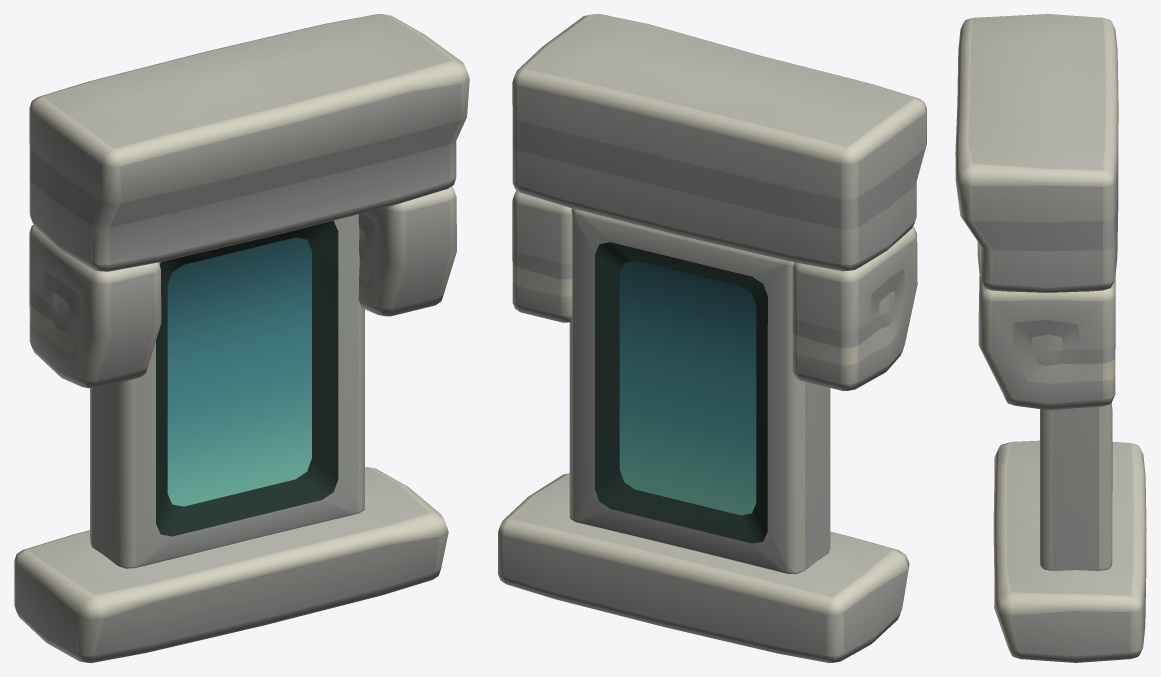
Rendered from window_ornate3_LOD_setup.fbx.
The picture shows the model from 3 angles, left to right: view 1: azimuth 30°, elevation 25°; view 2: azimuth 150°, elevation 25°; view 3: azimuth 270°, elevation 25°; orthographic projection. The views are drawn at different scales.
Visible parts, largest first — view 1: window_ornate3_LOD0; view 2: window_ornate3_LOD0; view 3: window_ornate3_LOD0.
Part boxes in pixels (left/top/right/bottom): window_ornate3_LOD0: left=14, top=14, right=469, bottom=662; window_ornate3_LOD0: left=498, top=14, right=926, bottom=662; window_ornate3_LOD0: left=955, top=14, right=1146, bottom=662.
Size of what is drawn, in the model's own units: 156 by 220 by 76.33.
